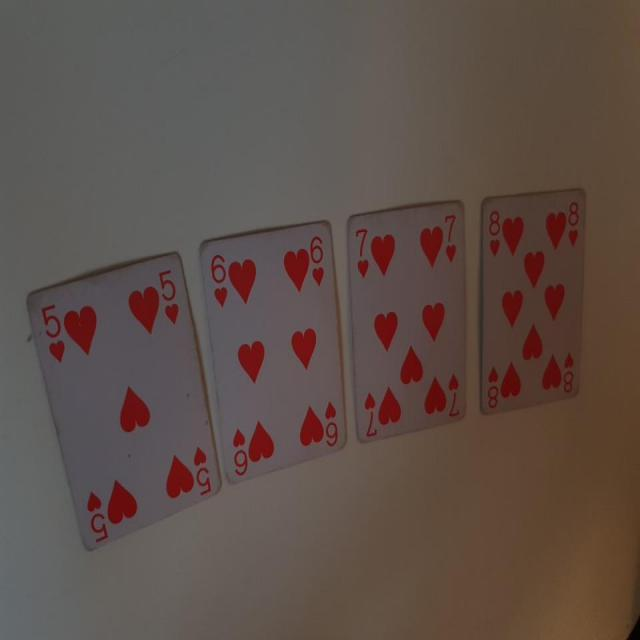5 of hearts: (24, 244, 227, 569)
6 of hearts: (197, 214, 353, 481)
7 of hearts: (344, 197, 471, 442)
8 of hearts: (479, 184, 591, 423)
